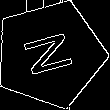N_E: (19, 28, 81, 81)
